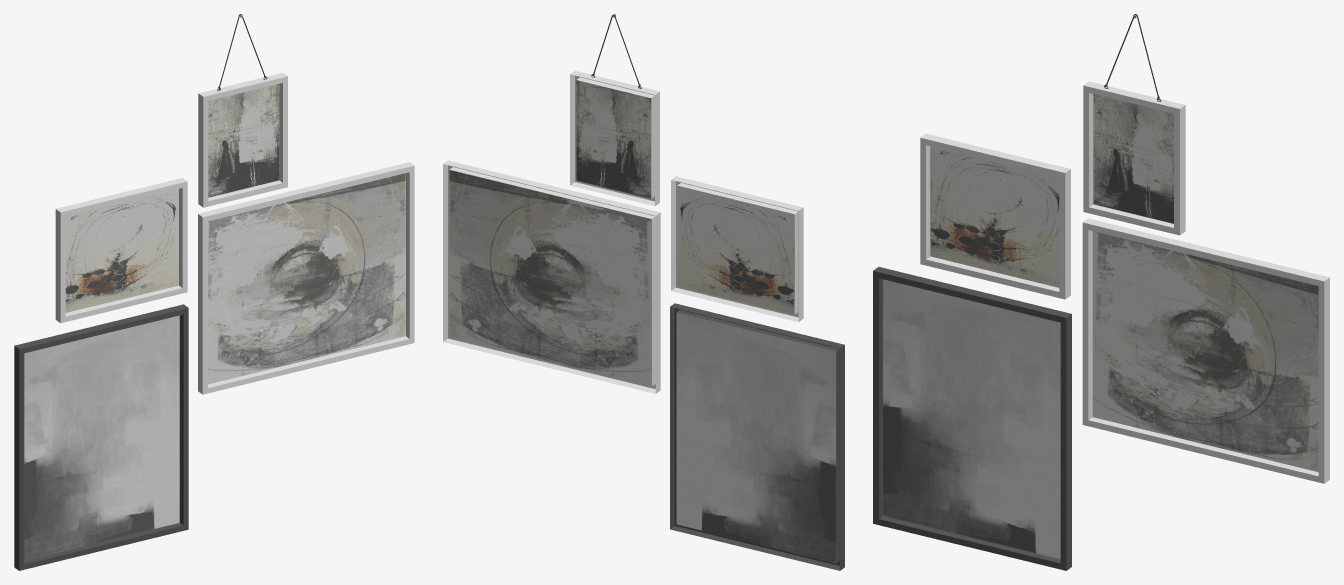
File: geo_pictureFrames_stagger.fbx
3 views of the same model, side by side, from view 1: azimuth 30°, elevation 25°; view 2: azimuth 150°, elevation 25°; view 3: azimuth 330°, elevation 25° (orthographic). The views are drawn at different scales.
Visible parts, largest first — view 1: geo_pictureFrames_stagger_LOD0; view 2: geo_pictureFrames_stagger_LOD0; view 3: geo_pictureFrames_stagger_LOD0.
Part boxes in pixels (x1,y1,x2,y2): geo_pictureFrames_stagger_LOD0: [14, 14, 414, 570]; geo_pictureFrames_stagger_LOD0: [443, 14, 844, 570]; geo_pictureFrames_stagger_LOD0: [873, 14, 1329, 570].
Size of what is drawn, in the model's own units: 0.9953 by 1.2 by 0.0227.
